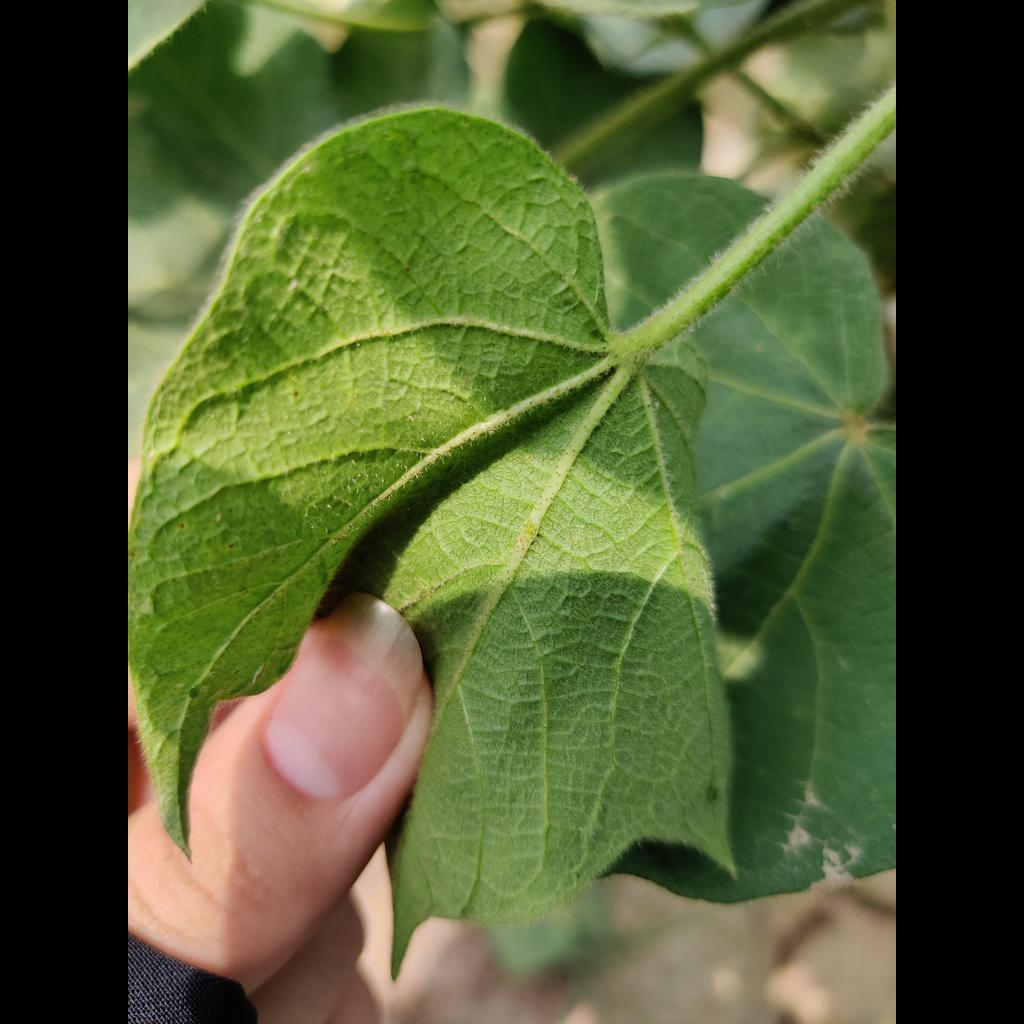nymph: (288, 279, 298, 290), (653, 401, 660, 410), (215, 514, 222, 522)
